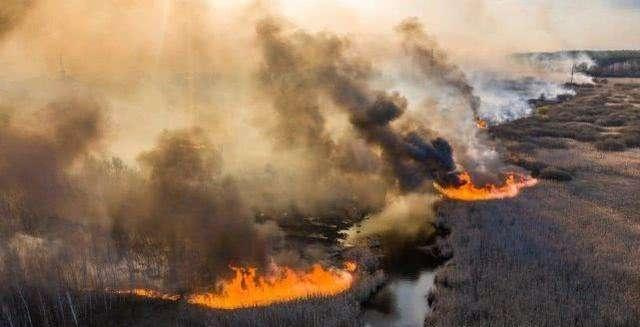fire: (107, 258, 378, 314), (410, 146, 554, 213)
